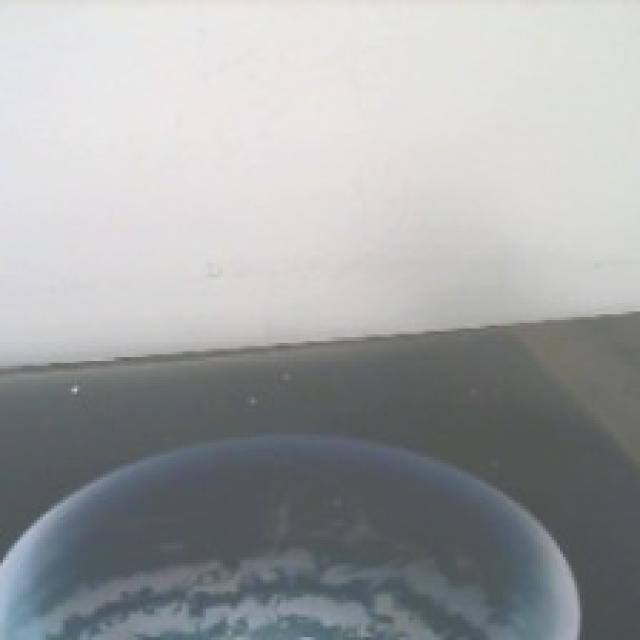Earth: (0, 437, 583, 640)
